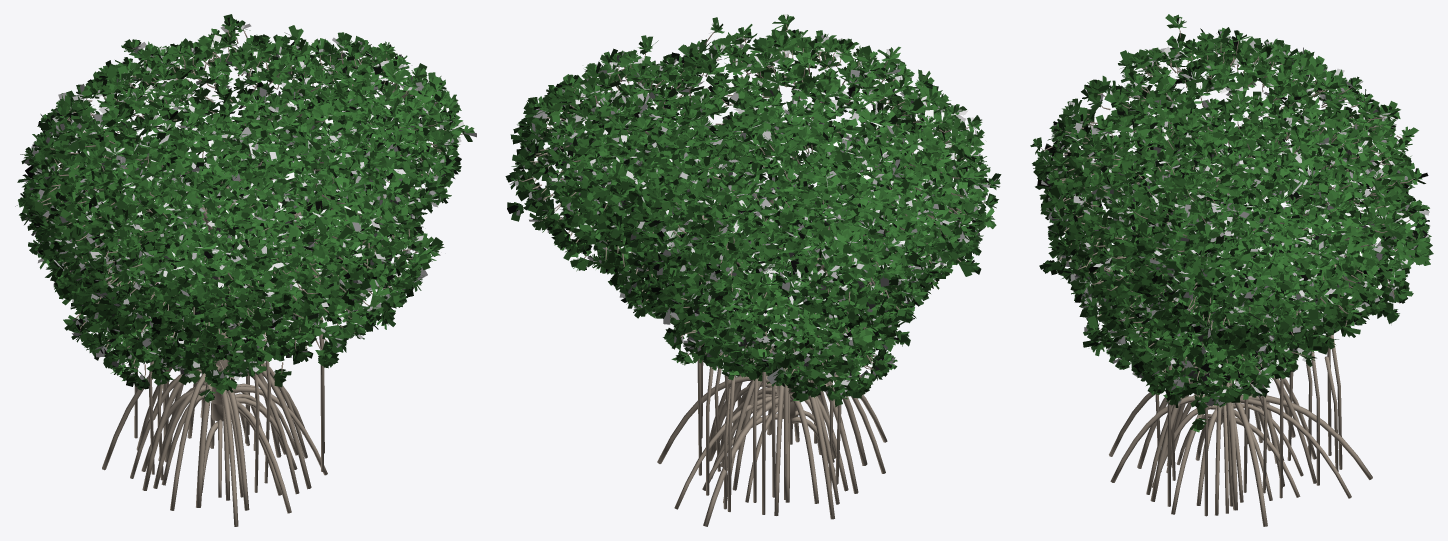
The model's file is mangroves.glb.
The picture shows the model from 3 angles, left to right: view 1: azimuth 30°, elevation 25°; view 2: azimuth 150°, elevation 25°; view 3: azimuth 270°, elevation 25°; orthographic projection.
Parts seen in each view (by area): view 1: Mangrove1Leaves, Mangrove1Leaves_lod, Mangrove0Leaves_lod, Mangrove0Leaves, Mangrove1Bark, Mangrove2Leaves_lod, Mangrove2Leaves, Mangrove0Bark, Mangrove2Bark; view 2: Mangrove1Leaves, Mangrove1Leaves_lod, Mangrove0Leaves, Mangrove0Leaves_lod, Mangrove1Bark, Mangrove0Bark, Mangrove2Leaves_lod, Mangrove2Bark, Mangrove2Leaves; view 3: Mangrove1Leaves, Mangrove1Leaves_lod, Mangrove0Leaves_lod, Mangrove0Leaves, Mangrove1Bark, Mangrove2Bark, Mangrove0Bark, Mangrove2Leaves, Mangrove2Leaves_lod.
Part boxes in pixels (bbox=[...]): Mangrove1Leaves: bbox=[19, 17, 474, 351]; Mangrove1Leaves_lod: bbox=[15, 14, 476, 355]; Mangrove0Leaves_lod: bbox=[19, 110, 444, 365]; Mangrove0Leaves: bbox=[20, 113, 440, 363]; Mangrove1Bark: bbox=[33, 25, 462, 526]; Mangrove2Leaves_lod: bbox=[45, 194, 368, 402]; Mangrove2Leaves: bbox=[49, 198, 366, 399]; Mangrove0Bark: bbox=[25, 136, 417, 510]; Mangrove2Bark: bbox=[75, 213, 357, 497]; Mangrove1Leaves: bbox=[506, 14, 990, 332]; Mangrove1Leaves_lod: bbox=[505, 16, 990, 335]; Mangrove0Leaves: bbox=[574, 109, 1000, 379]; Mangrove0Leaves_lod: bbox=[571, 109, 1001, 380]; Mangrove1Bark: bbox=[516, 24, 975, 526]; Mangrove0Bark: bbox=[621, 123, 990, 504]; Mangrove2Leaves_lod: bbox=[668, 182, 908, 407]; Mangrove2Bark: bbox=[702, 255, 883, 511]; Mangrove2Leaves: bbox=[670, 190, 898, 402]; Mangrove1Leaves: bbox=[1030, 16, 1424, 366]; Mangrove1Leaves_lod: bbox=[1032, 14, 1428, 366]; Mangrove0Leaves_lod: bbox=[1043, 98, 1433, 432]; Mangrove0Leaves: bbox=[1062, 101, 1431, 429]; Mangrove1Bark: bbox=[1038, 24, 1414, 526]; Mangrove2Bark: bbox=[1097, 251, 1342, 513]; Mangrove0Bark: bbox=[1074, 114, 1418, 515]; Mangrove2Leaves: bbox=[1081, 200, 1362, 381]; Mangrove2Leaves_lod: bbox=[1079, 212, 1361, 395].
Size of what is drawn, in the model's own units: 8.24 by 7.97 by 6.68.
